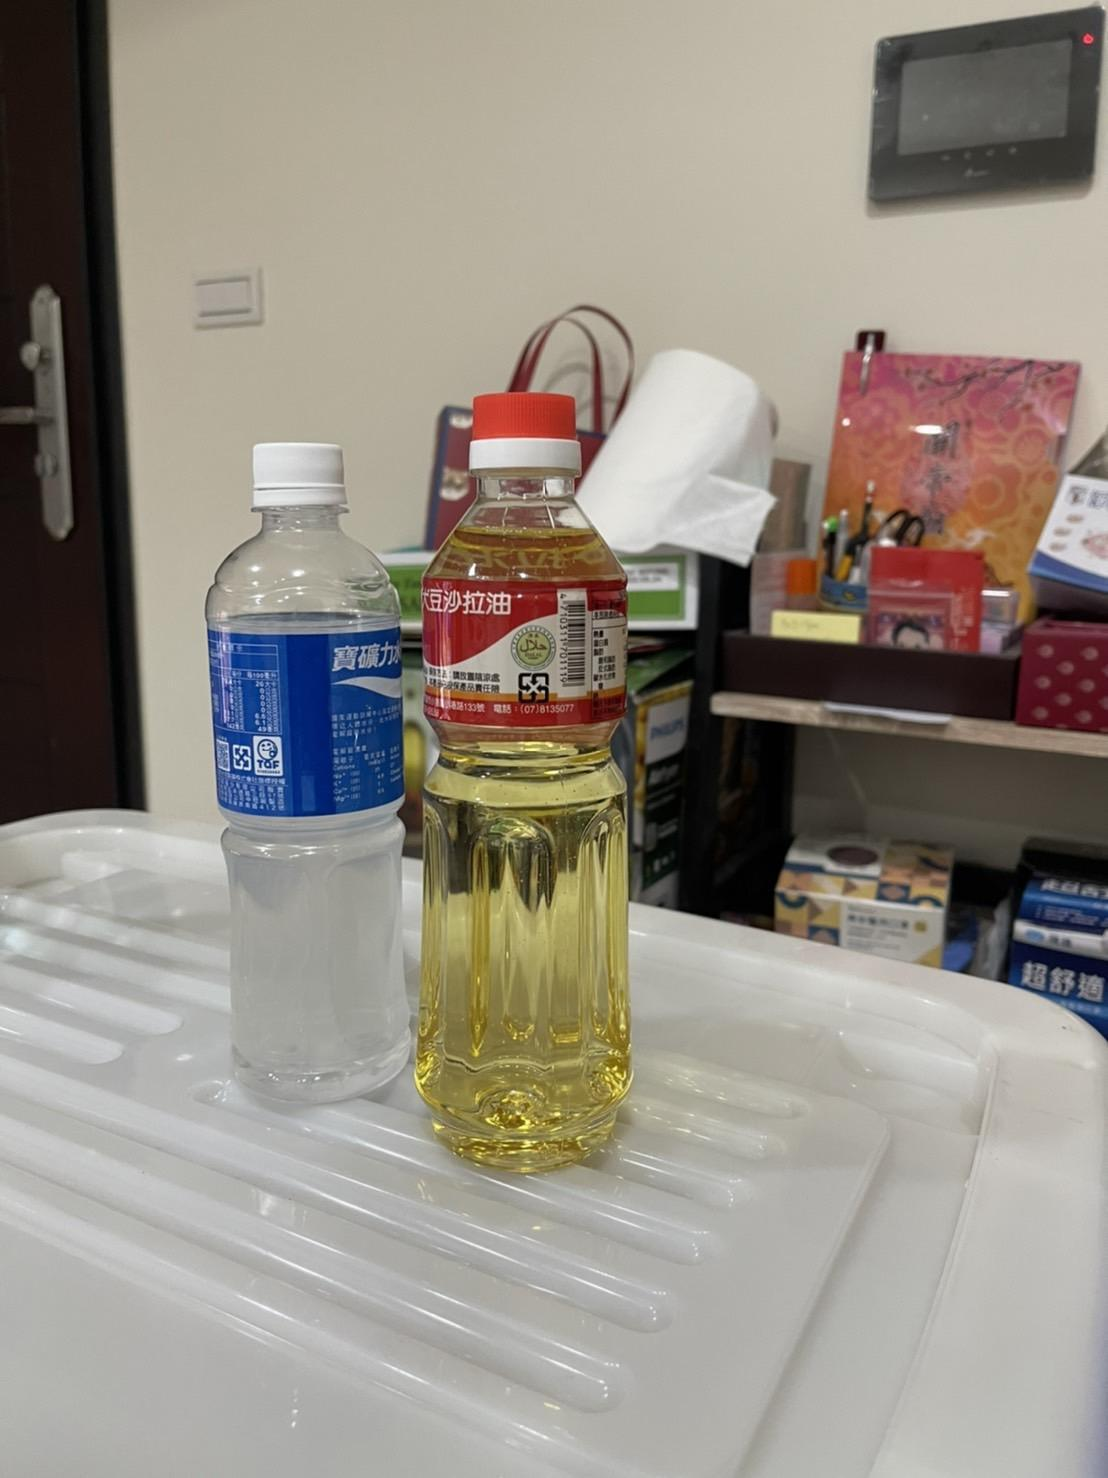bottle: (399, 388, 661, 1193), (187, 436, 420, 1115)
